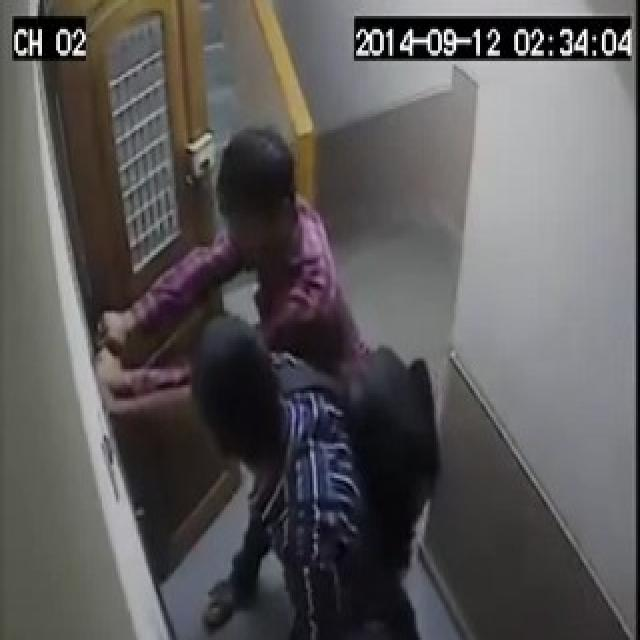thief: (72, 125, 464, 640)
